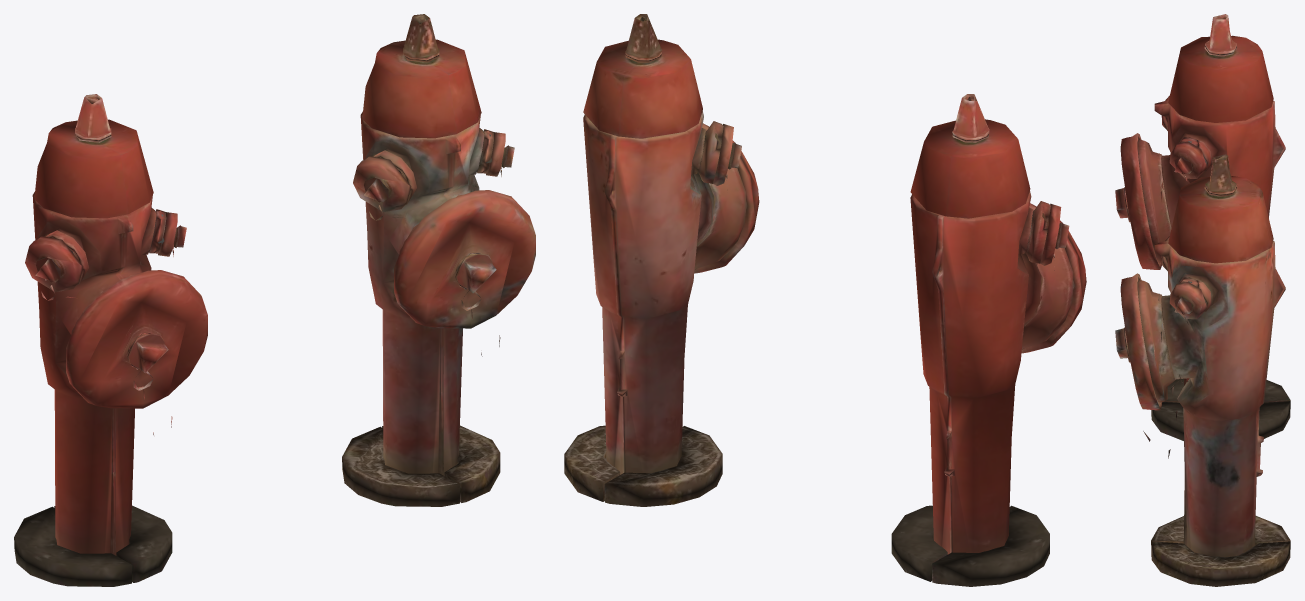
The model's file is hydrant.glb.
The picture shows the model from 3 angles, left to right: view 1: azimuth 30°, elevation 25°; view 2: azimuth 150°, elevation 25°; view 3: azimuth 270°, elevation 25°; orthographic projection. The views are drawn at different scales.
Parts seen in each view (by area): view 1: fire_hydrant_aged, fire_hydrant; view 2: fire_hydrant, fire_hydrant_aged; view 3: fire_hydrant_aged, fire_hydrant.
Boxes of the visible parts, left/top/right/bottom form: fire_hydrant_aged: left=342, top=14, right=535, bottom=506; fire_hydrant: left=14, top=94, right=207, bottom=586; fire_hydrant: left=891, top=94, right=1086, bottom=586; fire_hydrant_aged: left=564, top=14, right=759, bottom=506; fire_hydrant_aged: left=1115, top=154, right=1290, bottom=586; fire_hydrant: left=1115, top=14, right=1290, bottom=440.
Bounding box in the file's own units: 0.8728 × 0.7992 × 0.3173.
2 materials, 2 textured.
